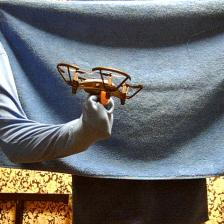drone: (57, 62, 144, 107)
